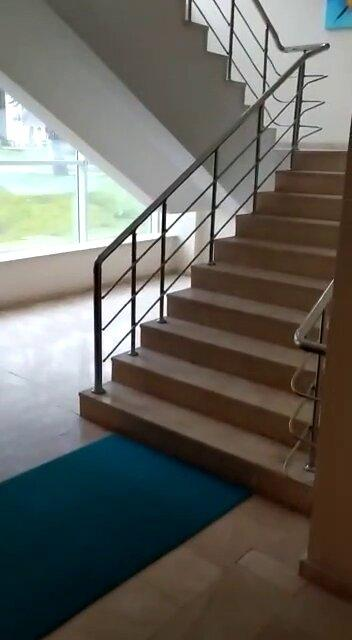Bench: (147, 53, 319, 486)
